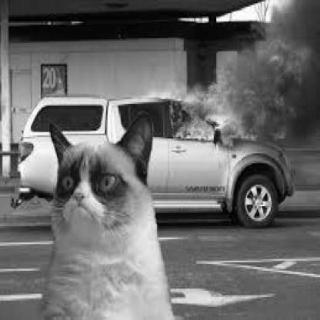Fire: (166, 38, 302, 148)
Smoke: (262, 1, 312, 46)
